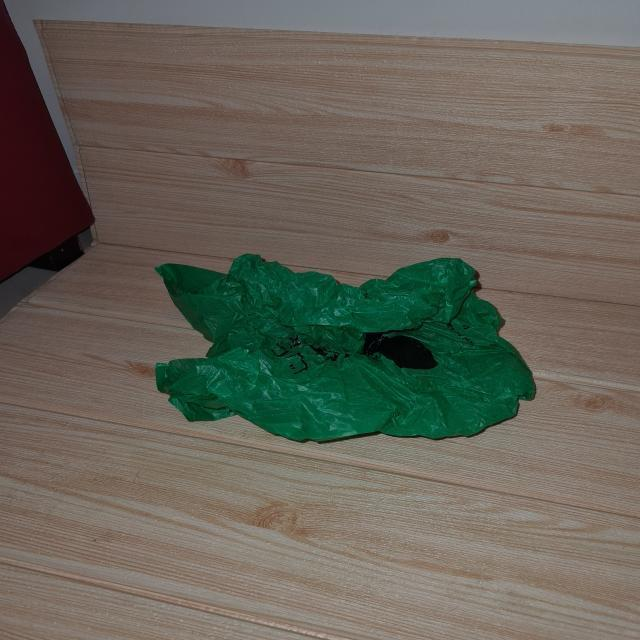Plastic_Bag: (114, 230, 559, 456)
